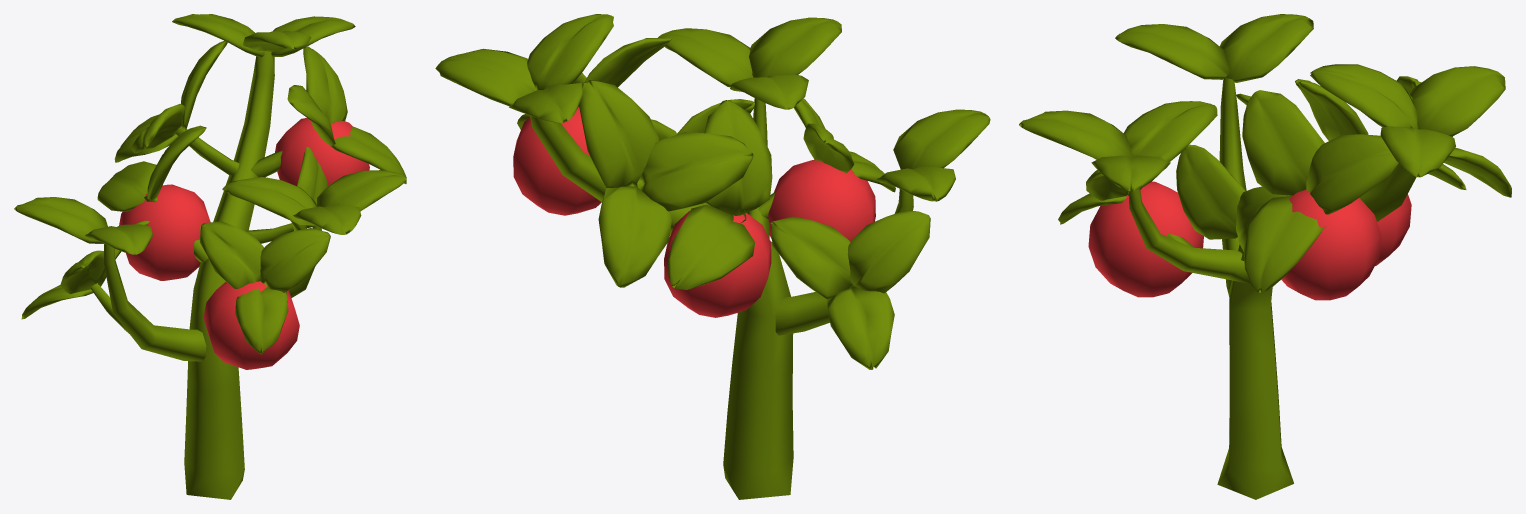
The picture shows the model from 3 angles, left to right: view 1: azimuth 30°, elevation 25°; view 2: azimuth 150°, elevation 25°; view 3: azimuth 270°, elevation 25°; orthographic projection. The views are drawn at different scales.
Visible parts, largest first — view 1: Plant_322_Cartoon_Mat_0.001; view 2: Plant_322_Cartoon_Mat_0.001; view 3: Plant_322_Cartoon_Mat_0.001.
Part boxes in pixels (<box>): Plant_322_Cartoon_Mat_0.001: <box>14,14,406,499</box>; Plant_322_Cartoon_Mat_0.001: <box>435,14,990,499</box>; Plant_322_Cartoon_Mat_0.001: <box>1019,14,1511,499</box>.
Bounding box in the file's own units: 68.81 × 68.12 × 63.92.
